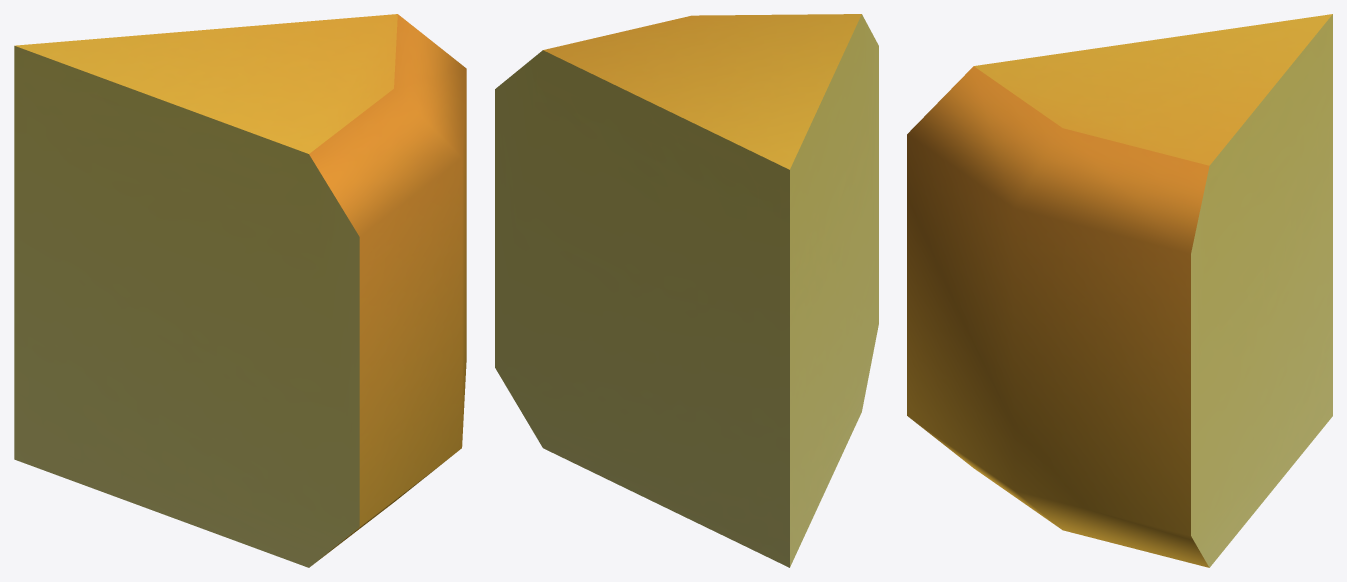
File: cheese_slice_yellow.fbx
3 renders of one model, left to right at view 1: azimuth 30°, elevation 25°; view 2: azimuth 150°, elevation 25°; view 3: azimuth 270°, elevation 25°, orthographic. The views are drawn at different scales.
Parts seen in each view (by area): view 1: cheese_slice_yellow; view 2: cheese_slice_yellow; view 3: cheese_slice_yellow.
Boxes of the visible parts, x1,y1,x2,y2 form: cheese_slice_yellow: [14, 14, 466, 567]; cheese_slice_yellow: [495, 14, 878, 567]; cheese_slice_yellow: [907, 14, 1332, 567].
Size of the model in its own units: 16.97 by 17.68 by 16.97.
